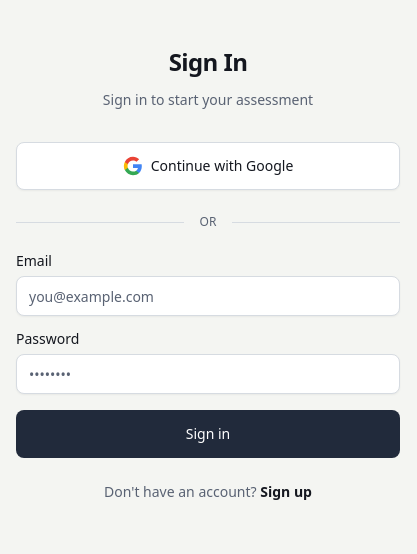
Test: recovers from a failed credentials login request
The width and height of the screenshot is (417, 554).
In the field labelled "Email": (208, 296) x1=16 y1=276 x2=400 y2=316, type "qa@example.com"
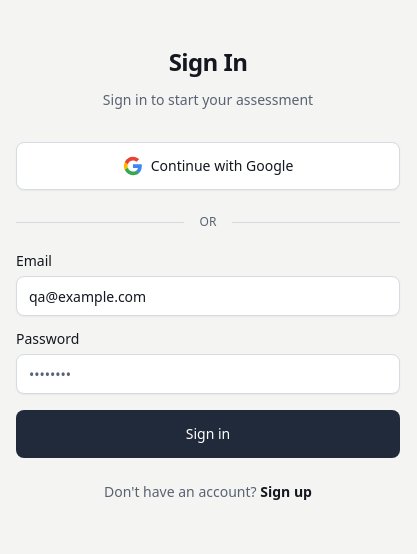
In the password field labelled "Password": (208, 374) x1=16 y1=354 x2=400 y2=394, type "test-password-only"
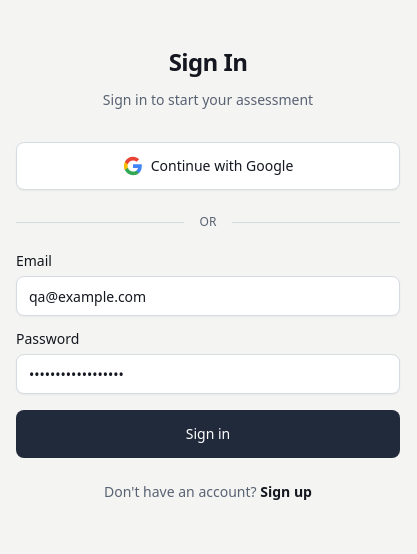
Click the button "Sign in": (208, 434) x1=16 y1=410 x2=400 y2=458
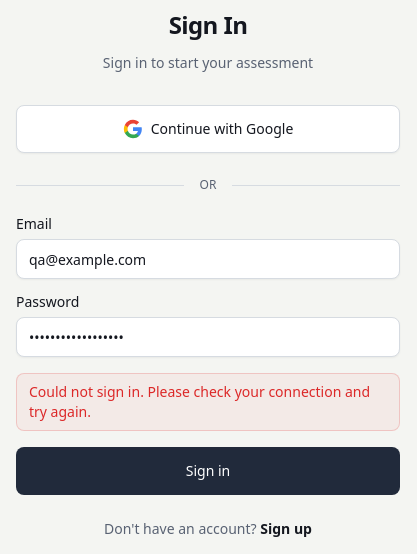
Expected: the button "Sign in" is enabled, x1=16 y1=447 x2=400 y2=495
Expected: the message shows "try again", x1=29 y1=382 x2=370 y2=421
